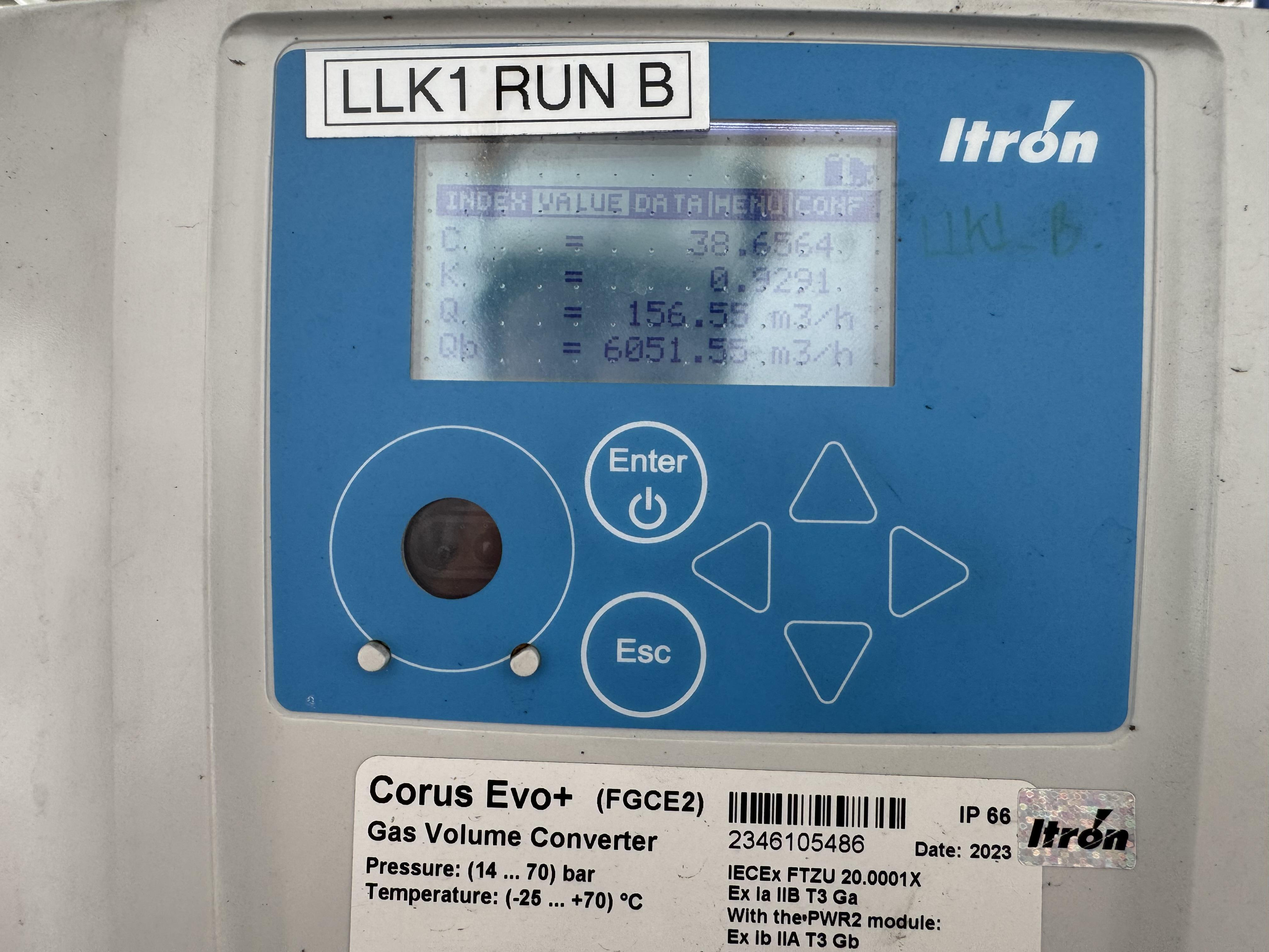digital_screen: (410, 115, 897, 387)
